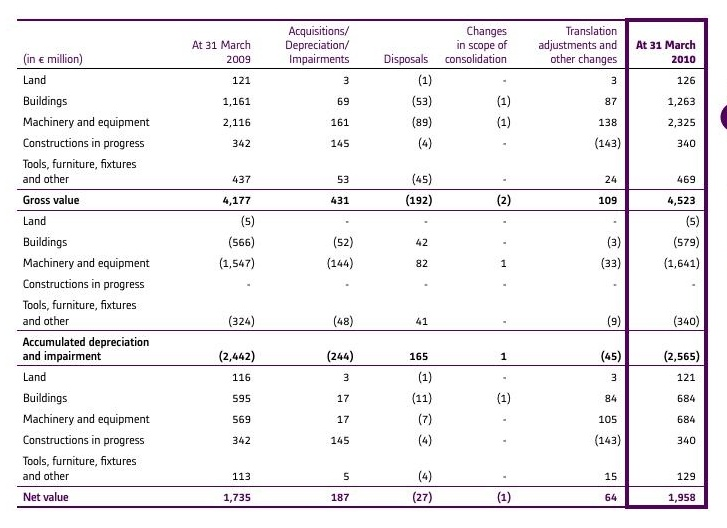table: (0, 0, 727, 528)
